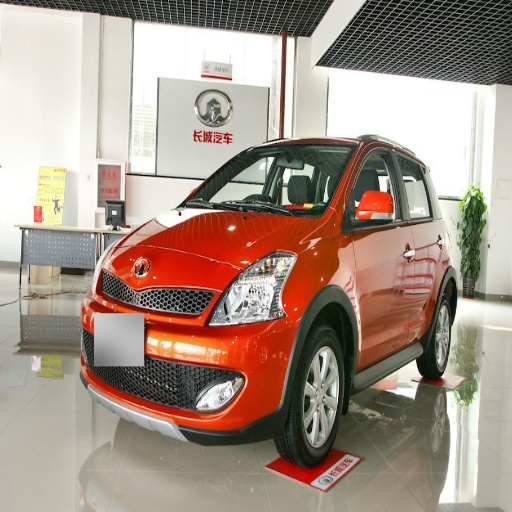back_left_door: (391, 145, 443, 335)
front_bumper: (105, 285, 301, 441)
front_glass: (186, 144, 352, 216)
front_left_door: (344, 141, 413, 365)
tailgate: (105, 255, 169, 312)
trunk: (114, 230, 175, 289)
